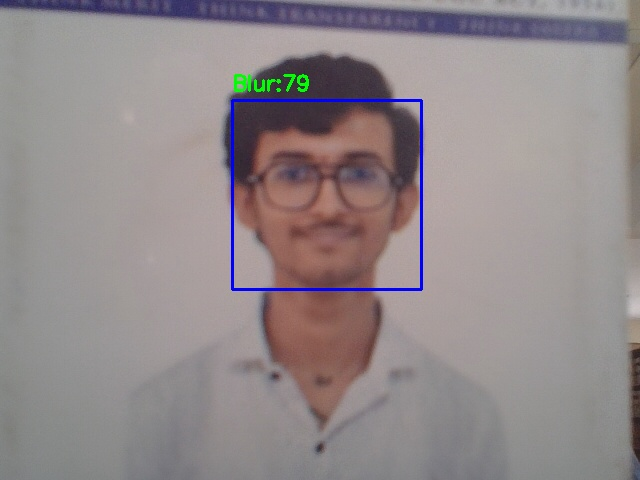fake: (232, 100, 421, 289)
